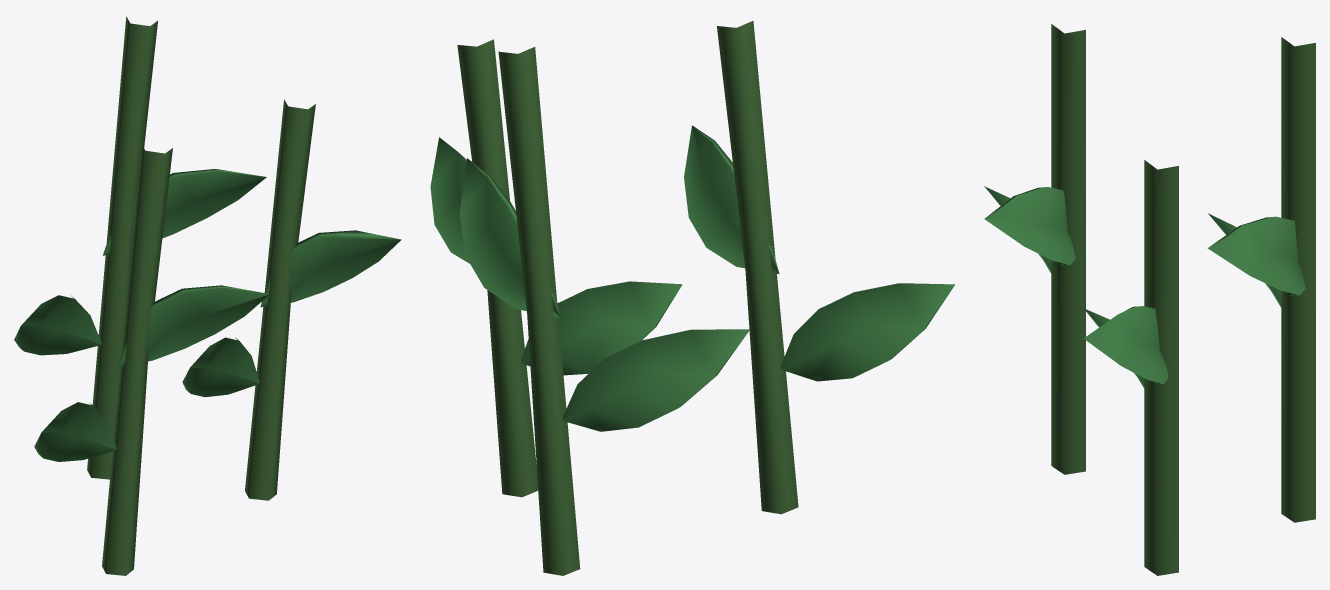
The model's file is trigo_1_lod.glb.
3 renders of one model, left to right at view 1: azimuth 30°, elevation 25°; view 2: azimuth 150°, elevation 25°; view 3: azimuth 270°, elevation 25°, orthographic. The views are drawn at different scales.
Visible parts, largest first — view 1: trigo_1_espigas_0; view 2: trigo_1_espigas_0; view 3: trigo_1_espigas_0.
Boxes of the visible parts, left/top/right/bottom form: trigo_1_espigas_0: left=14, top=16, right=401, bottom=575; trigo_1_espigas_0: left=430, top=21, right=955, bottom=575; trigo_1_espigas_0: left=984, top=24, right=1315, bottom=575.
Size of the model in its own units: 0.2481 by 0.2618 by 0.1568.
